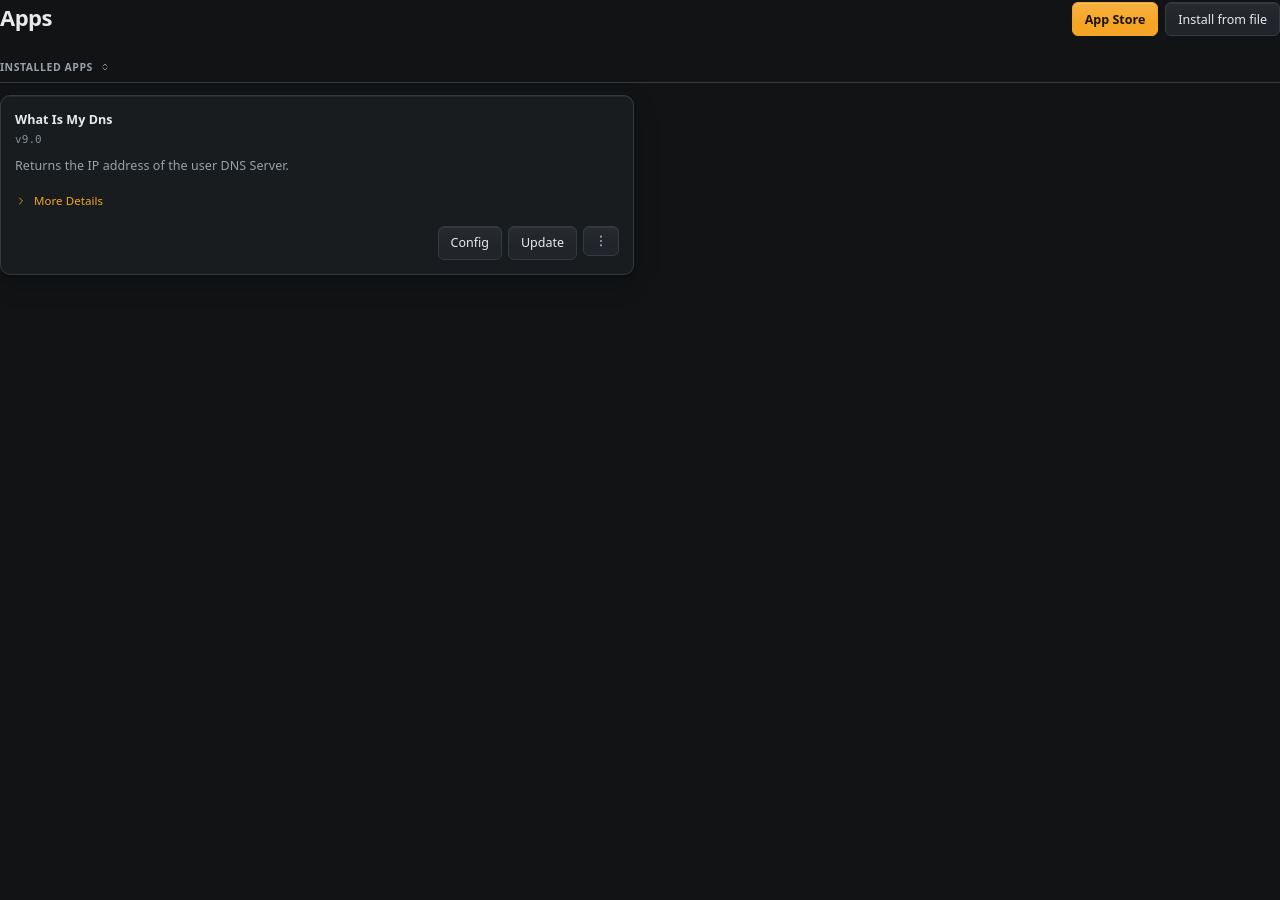
Test: Apps: uninstalling › on confirming it uninstalls and alerts with the literal text
The width and height of the screenshot is (1280, 900).
Expected: the list item "What Is My Dns" is shown, x1=0 y1=95 x2=634 y2=275
Click the button named "Actions: What Is My Dns" at point(601, 241), box x1=583 y1=226 x2=619 y2=256
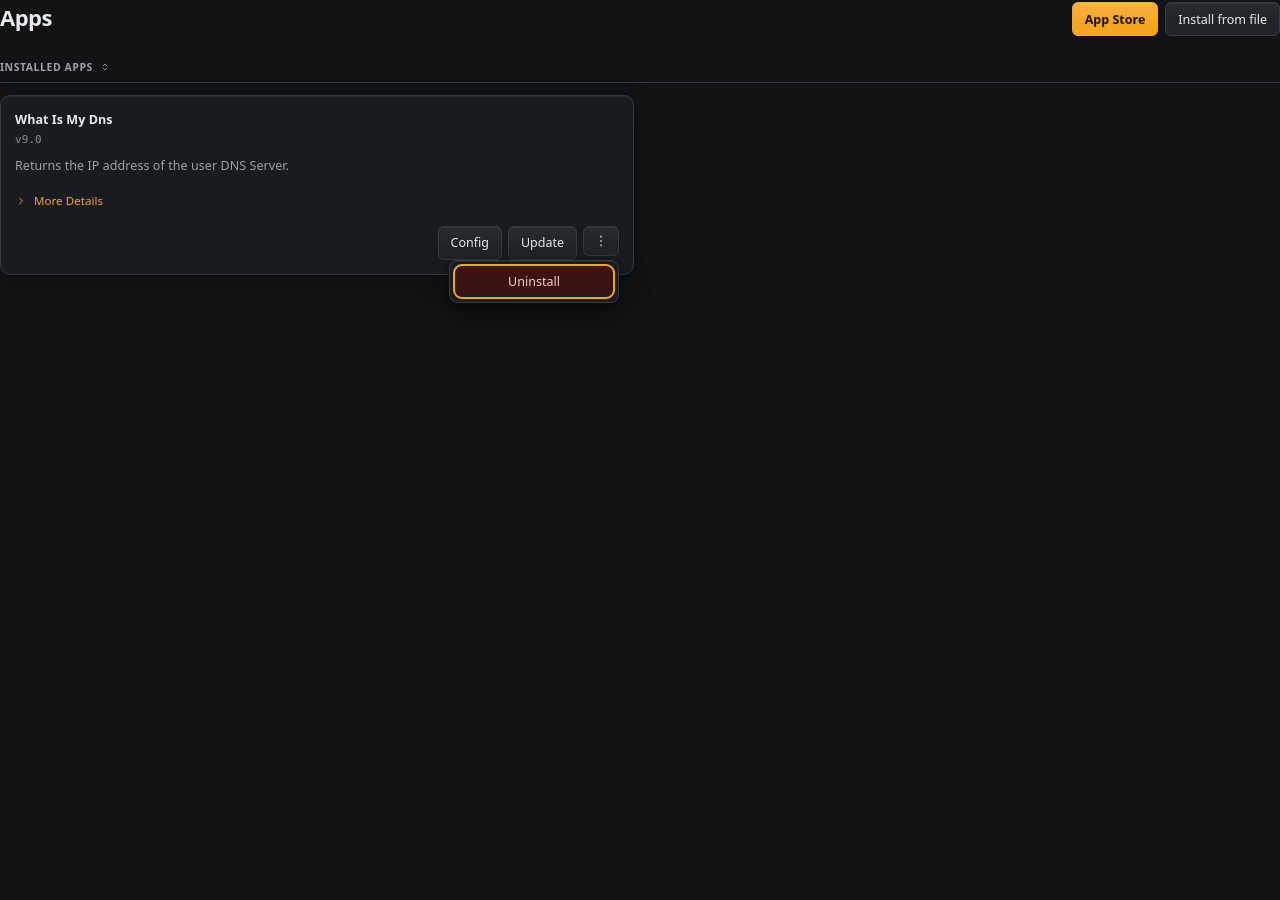
Click the menu item "Uninstall" at point(534, 281), box x1=456 y1=267 x2=612 y2=296
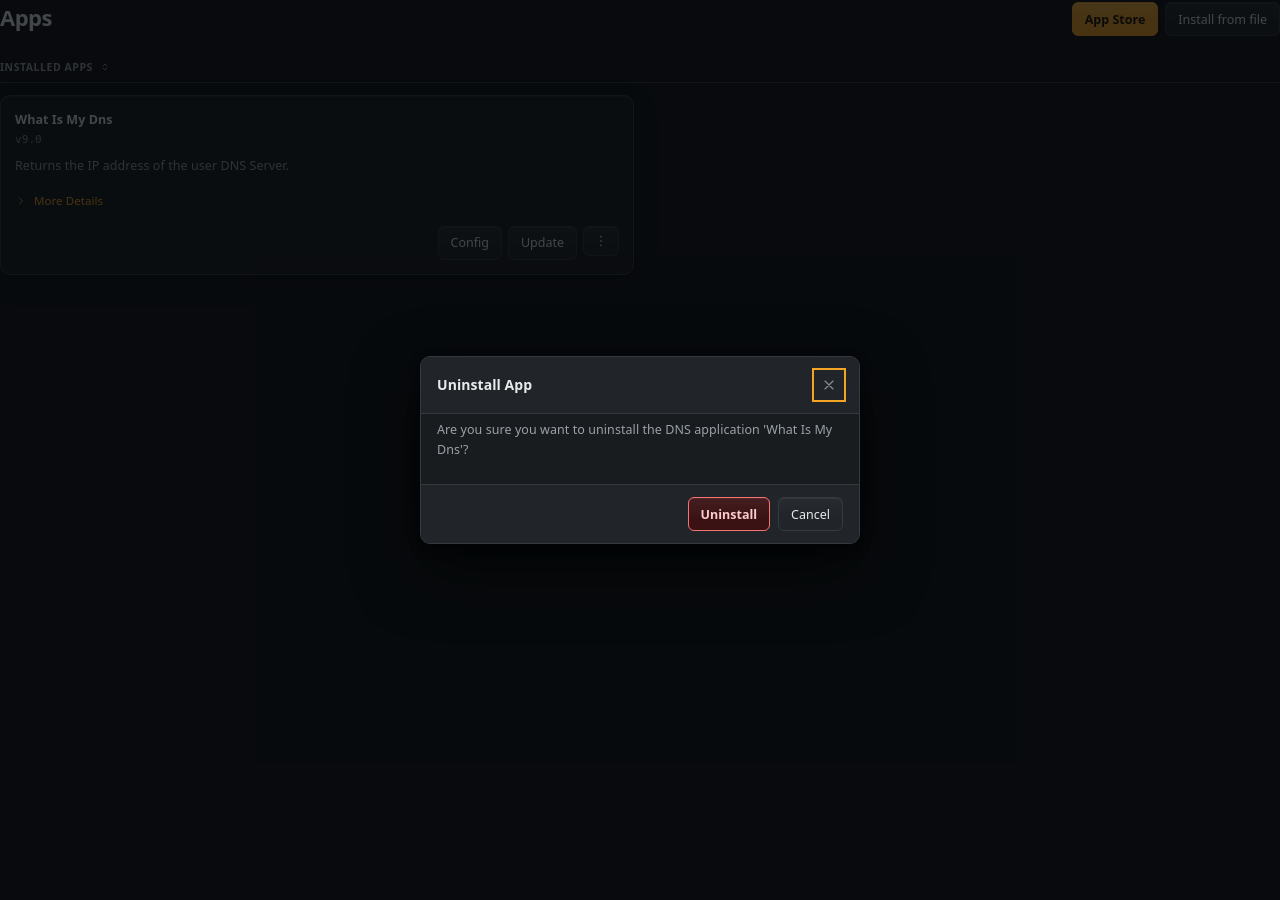
Click the button "Uninstall" at point(729, 514), box x1=688 y1=497 x2=770 y2=531
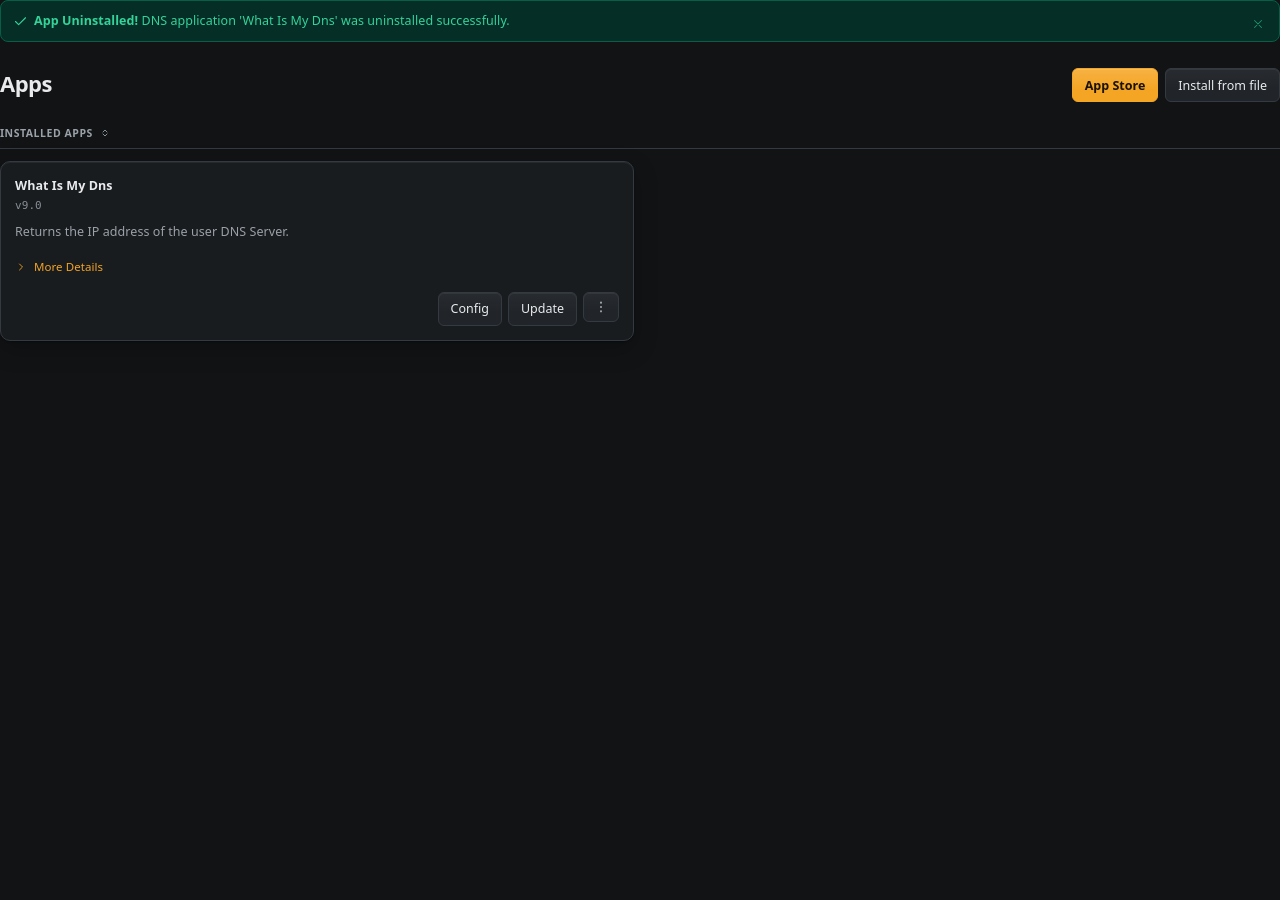
Expected: the heading "What Is My Dns" is shown, x1=15 y1=176 x2=113 y2=195
Now the text "DNS application 'What Is My Dns' was uninstalled successfully." is shown, box x1=142 y1=12 x2=510 y2=29
